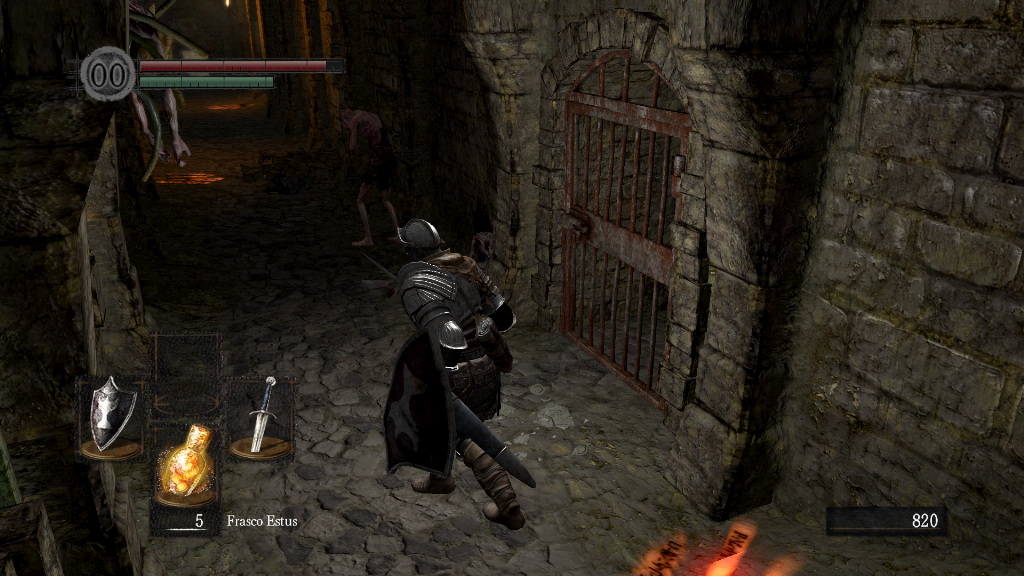health: (138, 58, 343, 71)
hollow: (331, 104, 406, 247)
humanity: (80, 45, 136, 102)
player: (382, 217, 541, 534)
souls: (825, 506, 945, 536)
stamina: (138, 74, 274, 88)
